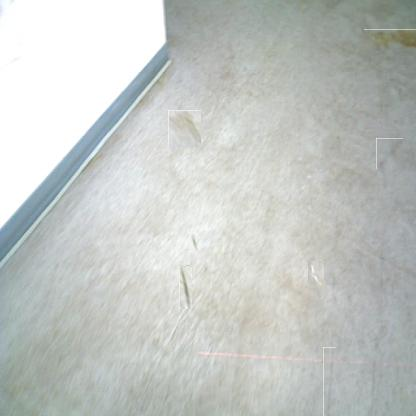liquid: (364, 29, 416, 50), (308, 261, 324, 287)
mark: (168, 110, 201, 147), (323, 347, 336, 416), (376, 138, 403, 169), (179, 266, 192, 310), (368, 358, 378, 414), (190, 233, 198, 252)
